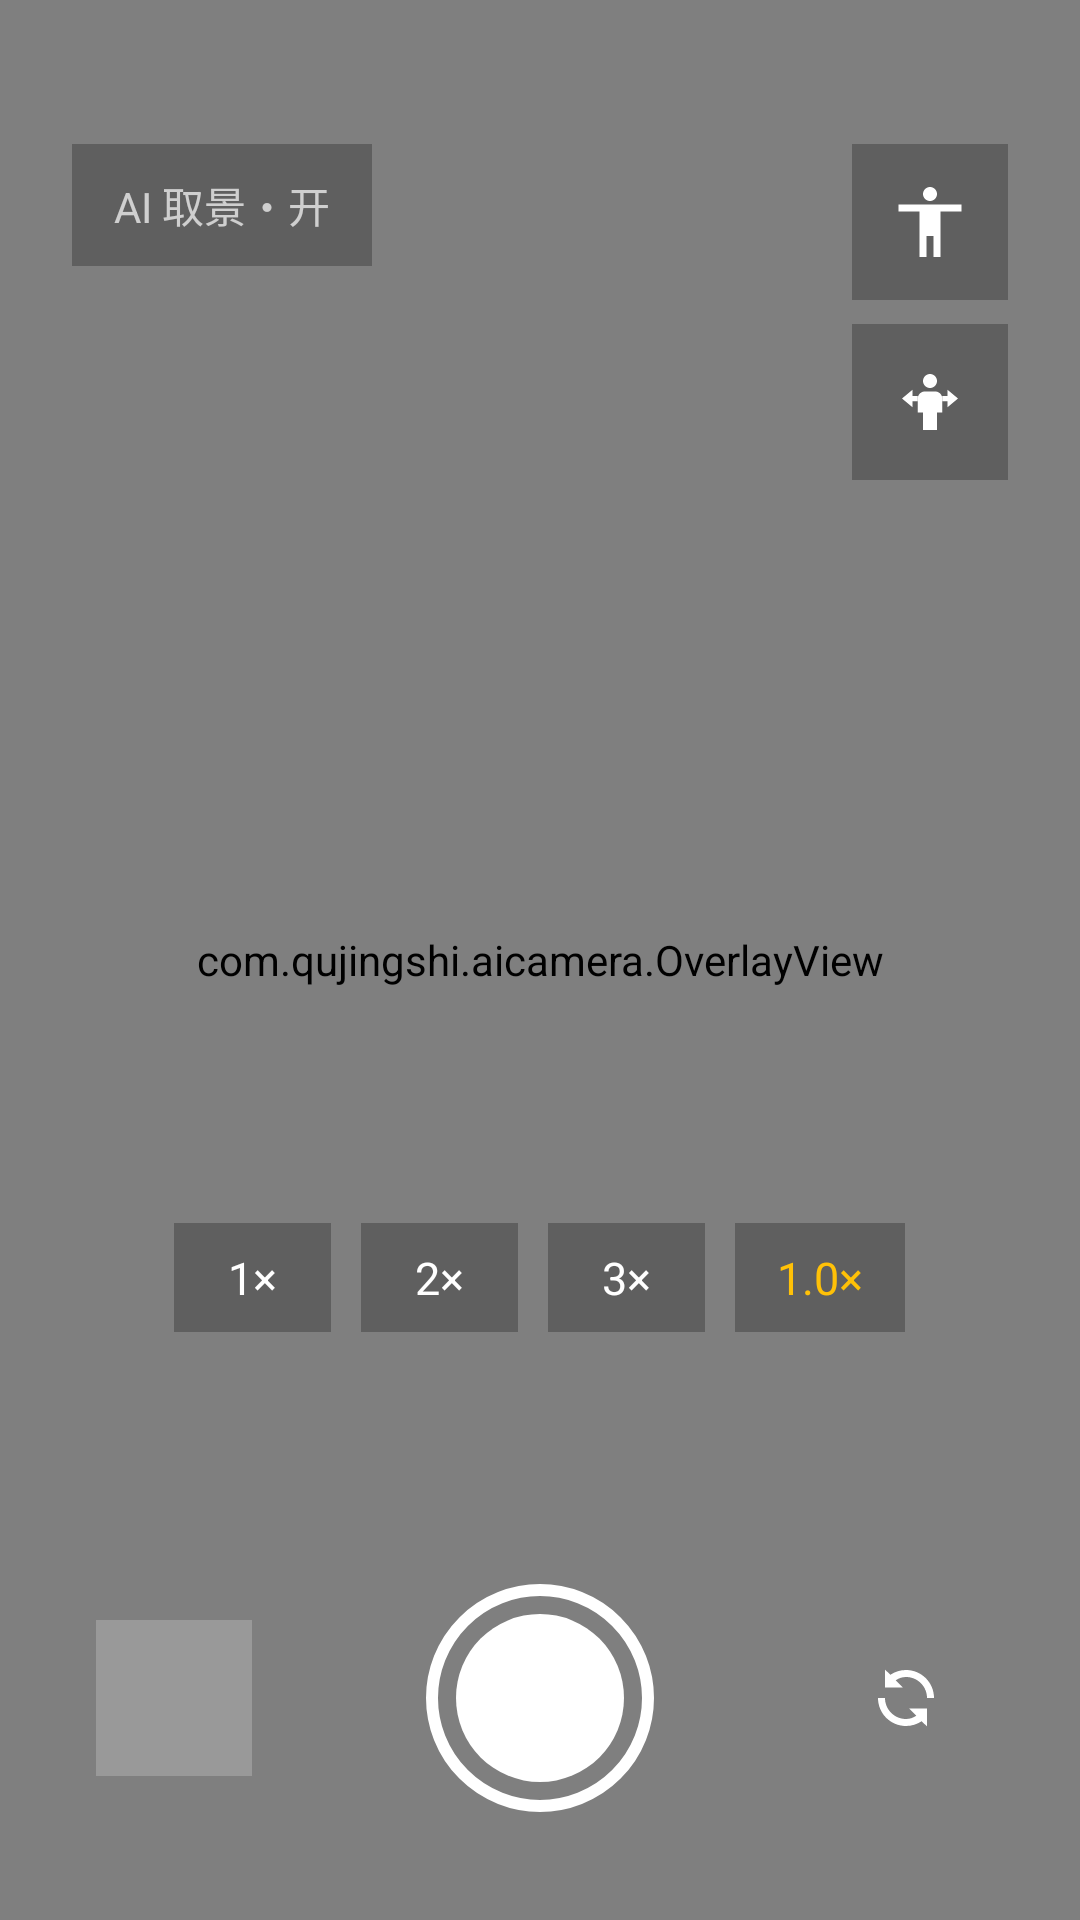

Point at icon controls on the screen. Image size 1080x1920, points as [x,y].
切换前后镜头: [906,1698]
切换姿势引导: [930,222]
切换引导模式: [930,402]
